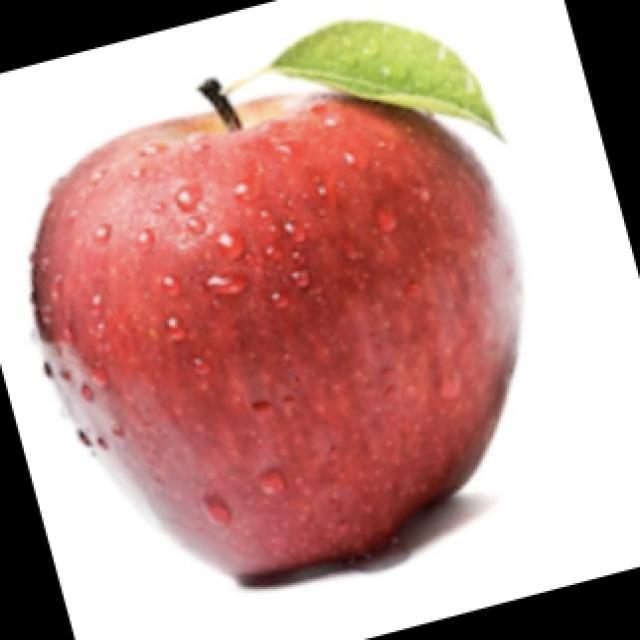Fresh Apple: (15, 89, 507, 578)
